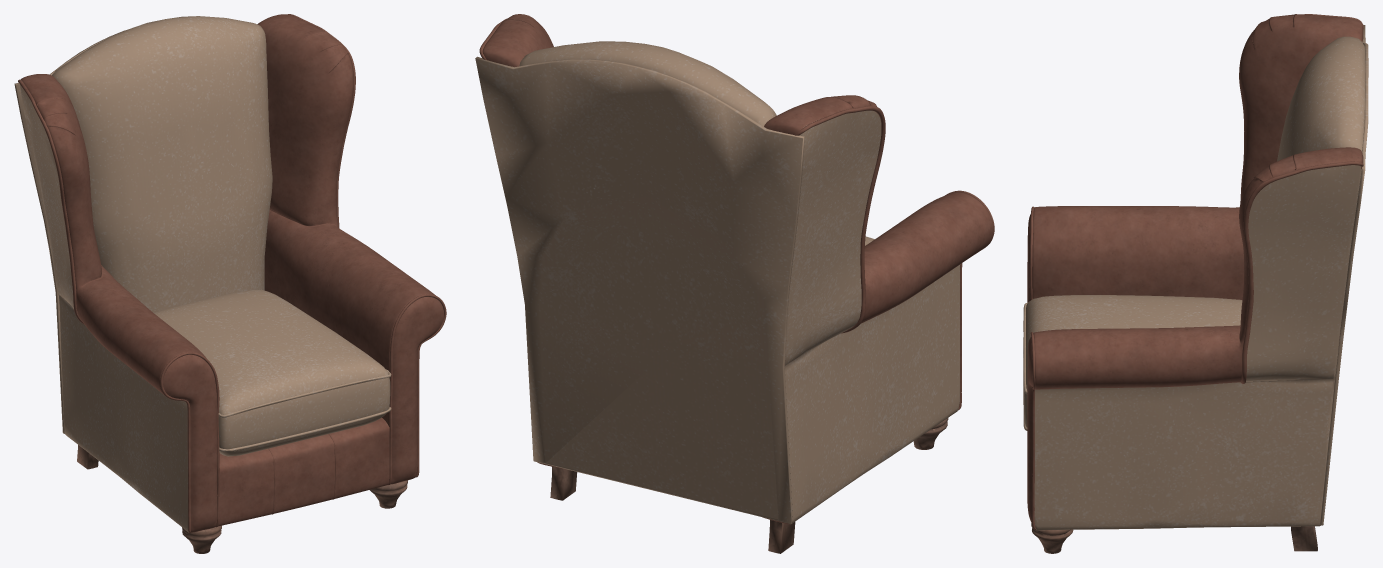
Rendered from singlesofa.fbx.
The picture shows the model from 3 angles, left to right: view 1: azimuth 30°, elevation 25°; view 2: azimuth 150°, elevation 25°; view 3: azimuth 270°, elevation 25°; orthographic projection. The views are drawn at different scales.
Visible parts, largest first — view 1: _Mesh_3, _Mesh_5, _Mesh_2; view 2: _Mesh_3, _Mesh_5, _Mesh_2; view 3: _Mesh_3, _Mesh_5, _Mesh_2.
Boxes of the visible parts, box(x1,y1,x2,y2) form: _Mesh_3: box(14, 16, 391, 532); _Mesh_5: box(18, 14, 446, 532); _Mesh_2: box(77, 445, 407, 553); _Mesh_3: box(475, 41, 960, 524); _Mesh_5: box(479, 14, 994, 524); _Mesh_2: box(550, 418, 948, 553); _Mesh_3: box(1023, 24, 1368, 530); _Mesh_5: box(1027, 14, 1363, 529); _Mesh_2: box(1031, 523, 1317, 553).
Bounding box in the file's own units: 265 × 335 × 239.
4 materials, 3 textured.
